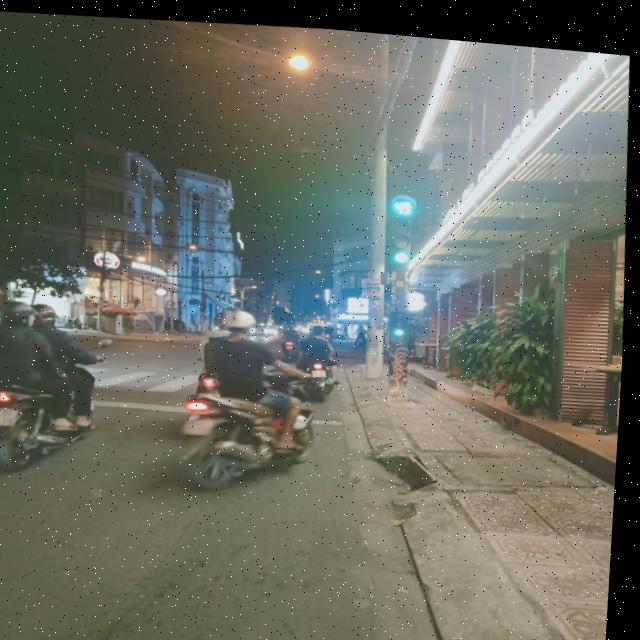Green: (385, 208, 420, 260), (394, 291, 417, 336)
